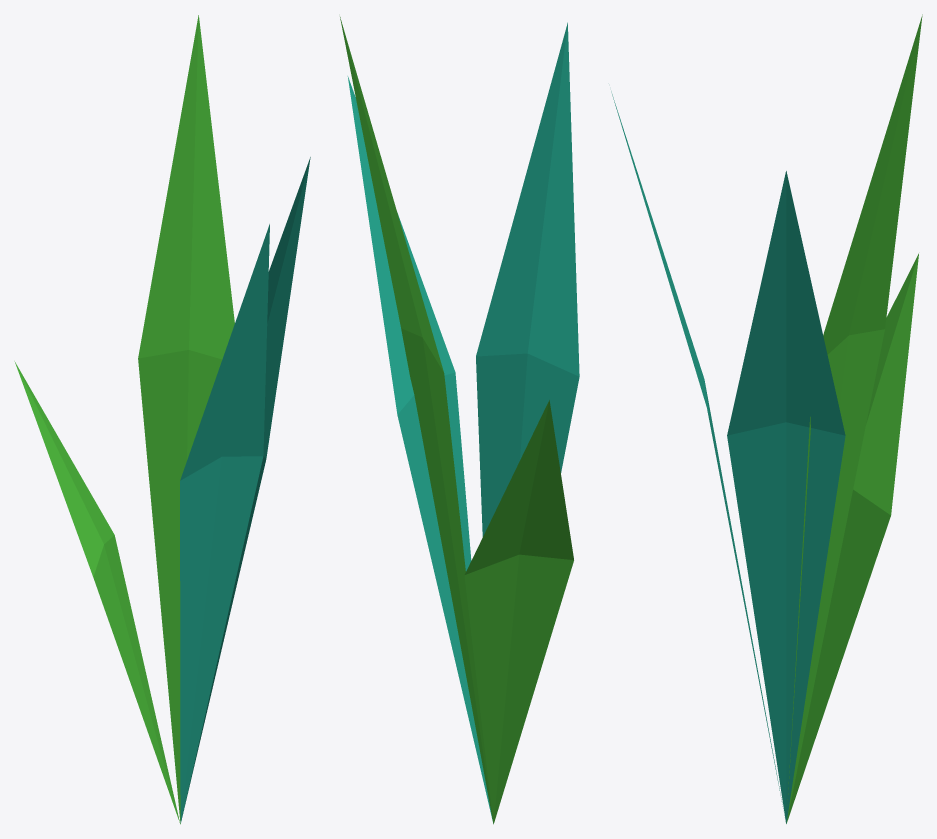
The model's file is aq_kelp_b.fbx.
The picture shows the model from 3 angles, left to right: view 1: azimuth 30°, elevation 25°; view 2: azimuth 150°, elevation 25°; view 3: azimuth 270°, elevation 25°; orthographic projection. The views are drawn at different scales.
Parts seen in each view (by area): view 1: aq_kelp_b; view 2: aq_kelp_b; view 3: aq_kelp_b.
Boxes of the visible parts, x1,y1,x2,y2 form: aq_kelp_b: (14,15,310,824); aq_kelp_b: (340,17,579,824); aq_kelp_b: (611,14,922,823).
Bounding box in the file's own units: 0.5 × 1.5 × 0.5.
